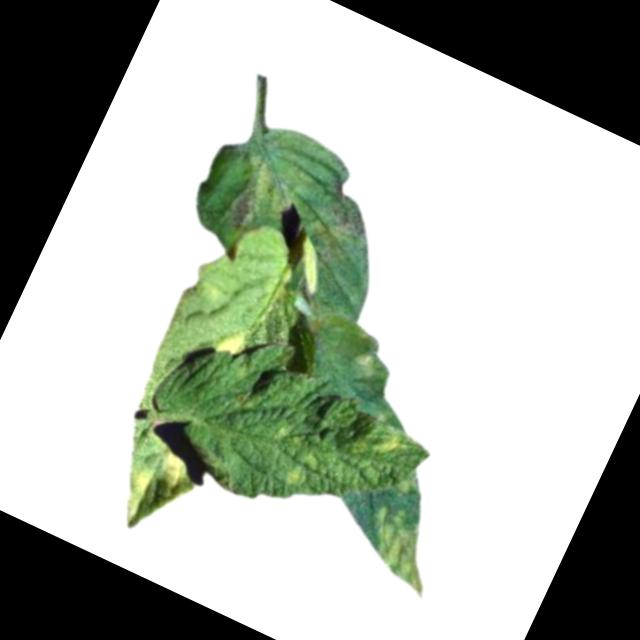Leaf_Mold: (351, 502, 454, 603), (217, 151, 302, 249), (113, 460, 158, 522), (211, 320, 252, 363), (369, 424, 410, 465), (158, 447, 196, 489), (280, 460, 316, 495)
